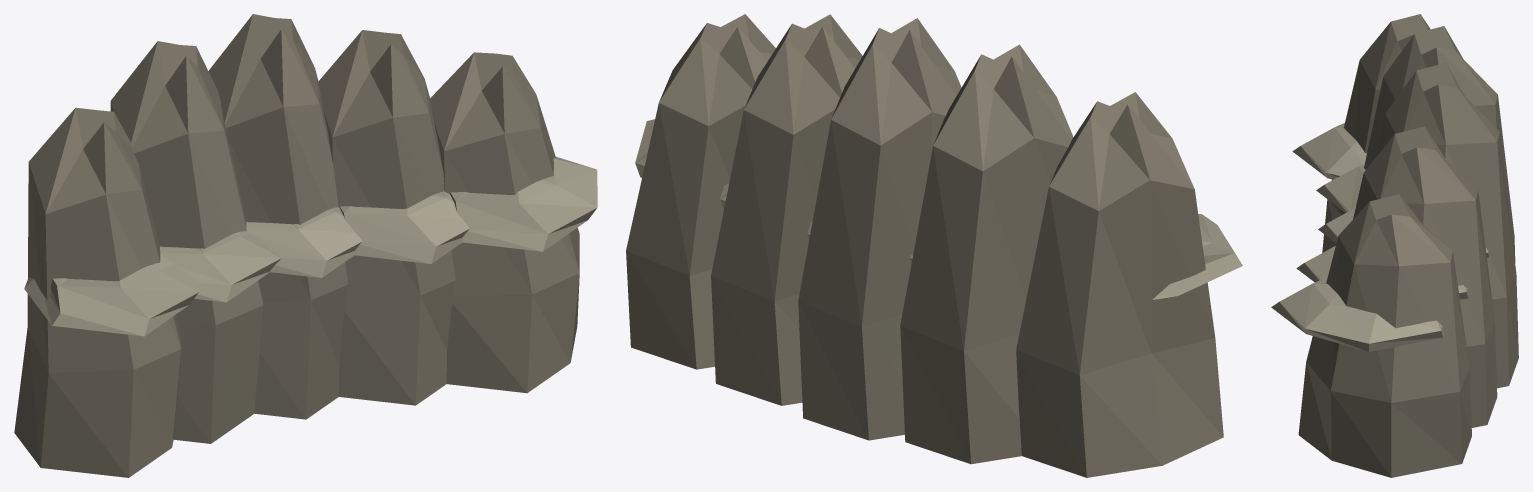
The model's file is cliff-straight.glb.
3 renders of one model, left to right at view 1: azimuth 30°, elevation 25°; view 2: azimuth 150°, elevation 25°; view 3: azimuth 270°, elevation 25°, orthographic. The views are drawn at different scales.
Visible parts, largest first — view 1: cliff-straight; view 2: cliff-straight; view 3: cliff-straight.
Part boxes in pixels (box(x1,y1,x2,y2)): cliff-straight: box(14, 14, 597, 477); cliff-straight: box(626, 14, 1242, 477); cliff-straight: box(1271, 14, 1518, 477).
Size of the model in its own units: 4.74 by 2.92 by 2.2.
